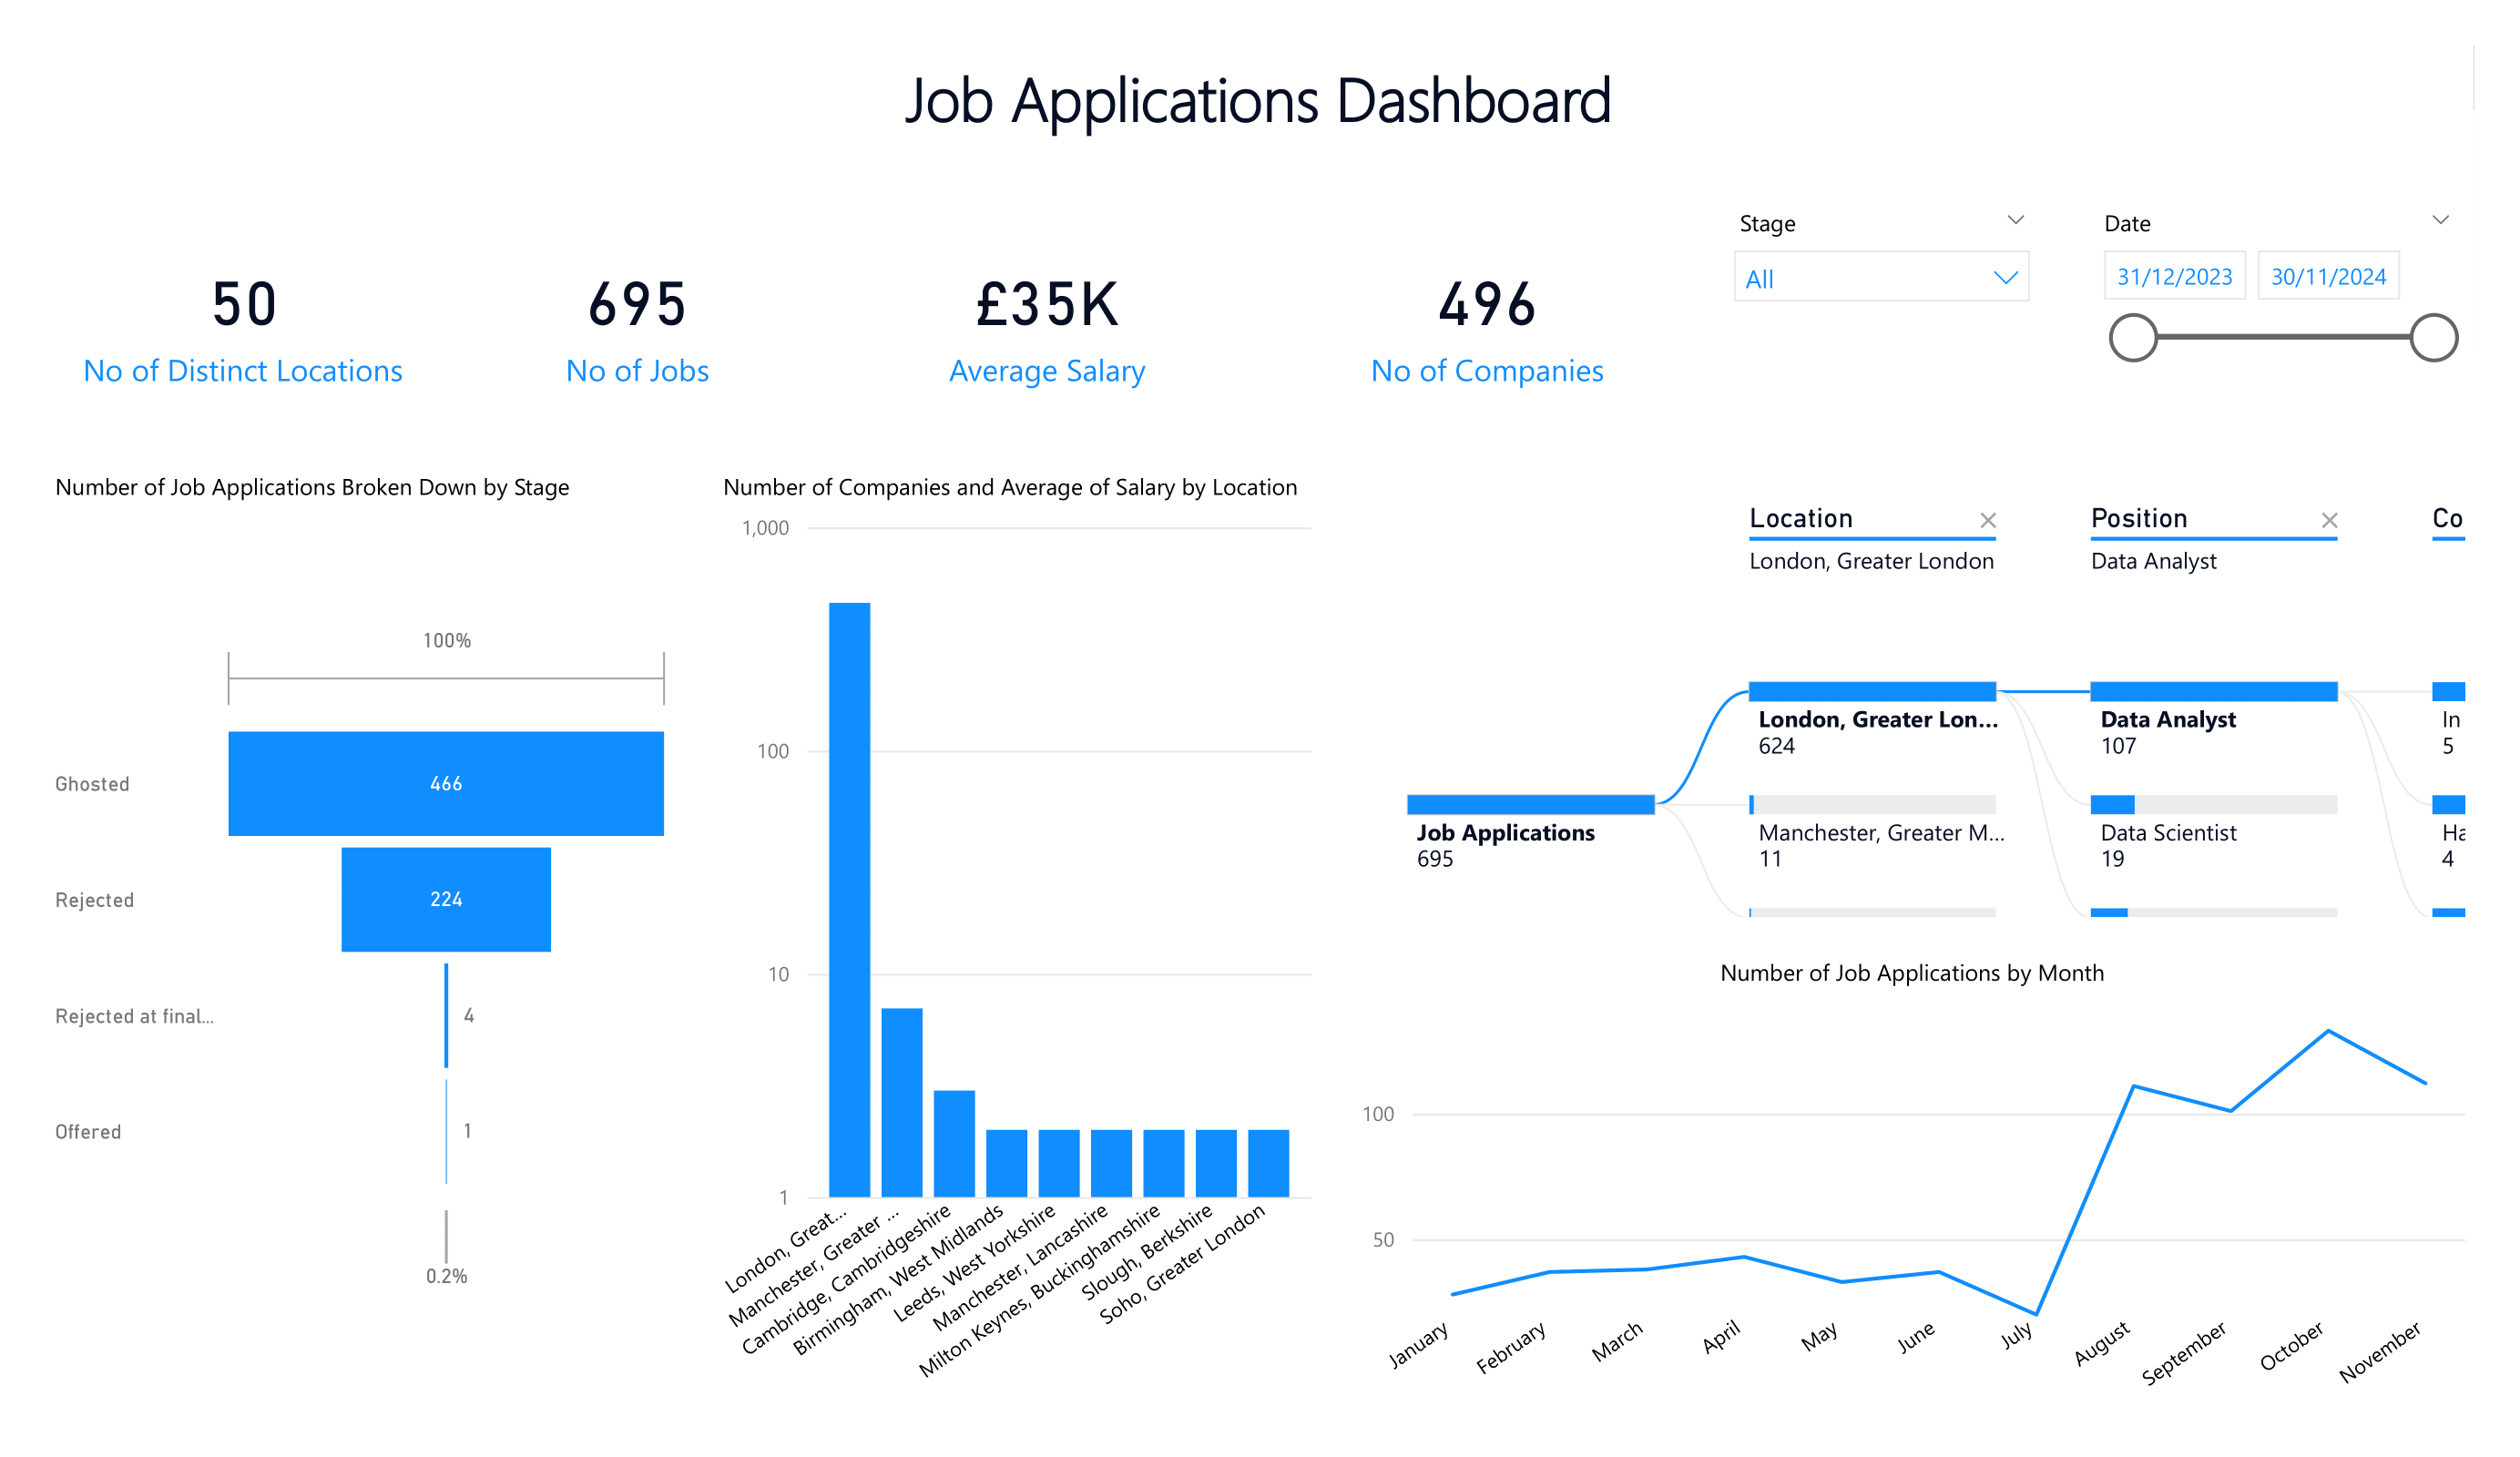

The dashboard page shown, as its layout file describes it:
{"tool":"powerbi","page":{"name":"Main Dashboard","canvas":[1280,720],"ordinal":0},"visuals":[{"type":"funnel","title":"Number of Job Applications Broken Down by Stage","fields":{"Category":["job_applications_final.Stage"],"Y":["CountNonNull(job_applications_final.Stage)"]},"box":[0,224,336,496],"z":0},{"type":"decompositionTreeVisual","fields":{"ExplainBy":["job_applications_final.Location","job_applications_final.Position","job_applications_final.Company"],"Analyze":["CountNonNull(job_applications_final.Location)"]},"box":[688,224,592,240],"z":1000},{"type":"lineChart","title":"Number of Job Applications by Month","fields":{"Category":["job_applications_final.Date.Variation.Date Hierarchy.Month","job_applications_final.Date.Variation.Date Hierarchy.Day"],"Y":["CountNonNull(job_applications_final.ID)"]},"box":[688,480,592,240],"z":2000},{"type":"card","fields":{"Values":["CountNonNull(job_applications_final.ID)"]},"box":[224,80,176,128],"z":3000},{"type":"card","fields":{"Values":["Avg(job_applications_final.Salary)"]},"box":[416,80,224,128],"z":4000},{"type":"card","fields":{"Values":["Count(job_applications_final.Location)"]},"box":[0,80,208,128],"z":5000},{"type":"slicer","fields":{"Values":["job_applications_final.Date"]},"box":[1072,80,208,128],"z":6000},{"type":"clusteredColumnChart","title":"Number of Companies and Average of Salary by Location","fields":{"Category":["job_applications_final.Location"],"Y":["Count(job_applications_final.Company)"]},"box":[352,224,320,496],"z":7000},{"type":"actionButton","box":[0,0,100,40],"z":8000},{"type":"textbox","box":[0,0,1280,64],"z":9000},{"type":"slicer","fields":{"Values":["job_applications_final.Stage"]},"box":[880,80,176,128],"z":10000},{"type":"card","fields":{"Values":["Count(job_applications_final.Company)"]},"box":[656,80,208,128],"z":11000}]}

Visuals, with their boxes in screenshot pixels (x1, y1, x2, y2):
"Number of Job Applications Broken Down by Stage" funnel: [left=46, top=471, right=683, bottom=1411]
decompositionTreeVisual - job_applications_final.Location x job_applications_final.Position: [left=1352, top=471, right=2474, bottom=926]
"Number of Job Applications by Month" lineChart: [left=1352, top=956, right=2474, bottom=1411]
card - CountNonNull(job_applications_final.ID): [left=471, top=198, right=804, bottom=440]
card - Avg(job_applications_final.Salary): [left=835, top=198, right=1260, bottom=440]
card - Count(job_applications_final.Location): [left=46, top=198, right=440, bottom=440]
slicer - job_applications_final.Date: [left=2080, top=198, right=2474, bottom=440]
"Number of Companies and Average of Salary by Location" clusteredColumnChart: [left=713, top=471, right=1321, bottom=1411]
actionButton: [left=46, top=46, right=235, bottom=121]
textbox: [left=46, top=46, right=2474, bottom=167]
slicer - job_applications_final.Stage: [left=1716, top=198, right=2049, bottom=440]
card - Count(job_applications_final.Company): [left=1291, top=198, right=1685, bottom=440]
